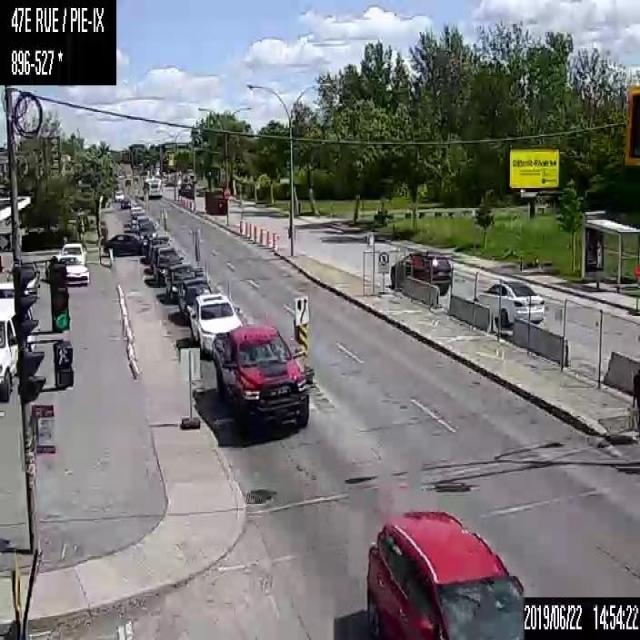bus: (142, 177, 162, 198)
construction: (259, 225, 265, 242), (265, 229, 271, 246), (271, 232, 276, 249), (252, 223, 256, 243), (238, 220, 242, 234), (248, 220, 251, 237), (244, 219, 247, 234)
pedestrian: (631, 369, 639, 427)
vehicle: (364, 504, 530, 639), (214, 331, 311, 440), (0, 280, 37, 400), (185, 290, 244, 355), (472, 279, 544, 329), (389, 248, 453, 297), (179, 279, 214, 319), (44, 253, 89, 283), (6, 260, 39, 297), (152, 247, 184, 283), (100, 232, 147, 255), (147, 233, 175, 267), (166, 264, 197, 294), (60, 240, 86, 261), (137, 219, 158, 242), (132, 215, 148, 233), (113, 188, 123, 202), (120, 195, 130, 207)
